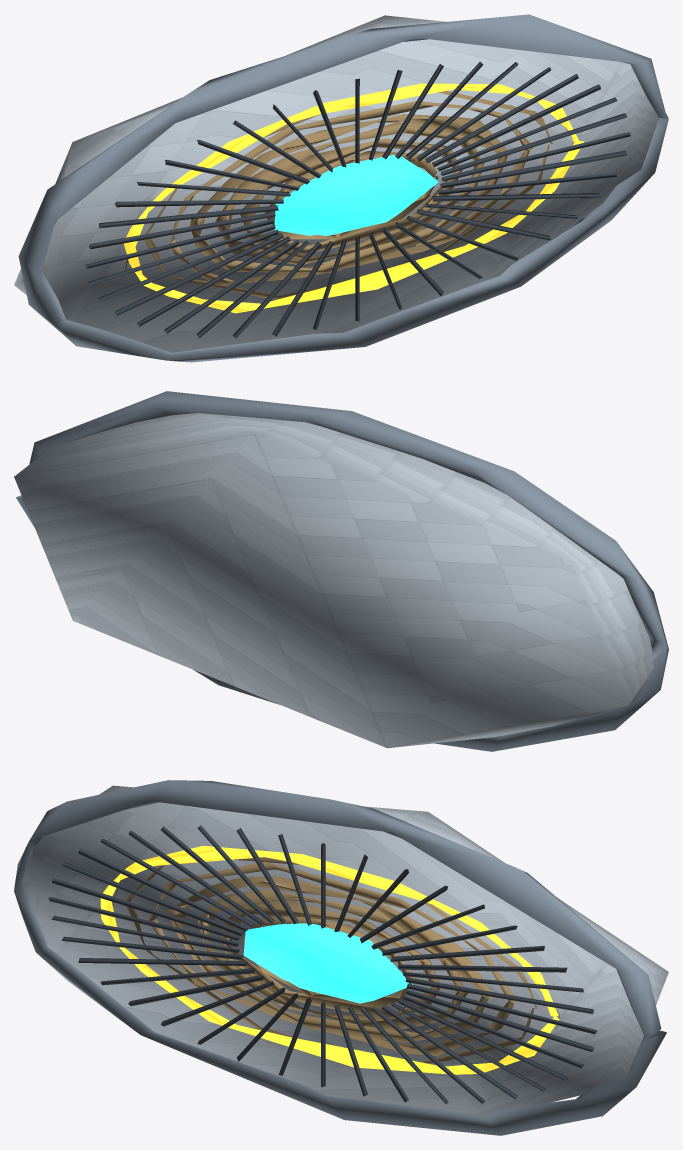
Rendered from Deflector_Amber_oval_LOD1.fbx.
3 renders of one model, top to bottom at view 1: azimuth 30°, elevation 25°; view 2: azimuth 150°, elevation 25°; view 3: azimuth 330°, elevation 25°, orthographic.
Parts seen in each view (by area): view 1: Deflector_Amber_oval_LOD1; view 2: Deflector_Amber_oval_LOD1; view 3: Deflector_Amber_oval_LOD1.
Part boxes in pixels (x1,y1,x2,y2): Deflector_Amber_oval_LOD1: [14, 14, 668, 362]; Deflector_Amber_oval_LOD1: [14, 391, 668, 751]; Deflector_Amber_oval_LOD1: [14, 780, 668, 1135].
Bounding box in the file's own units: 9385 × 4350 × 1062.
6 materials, 1 textured.
